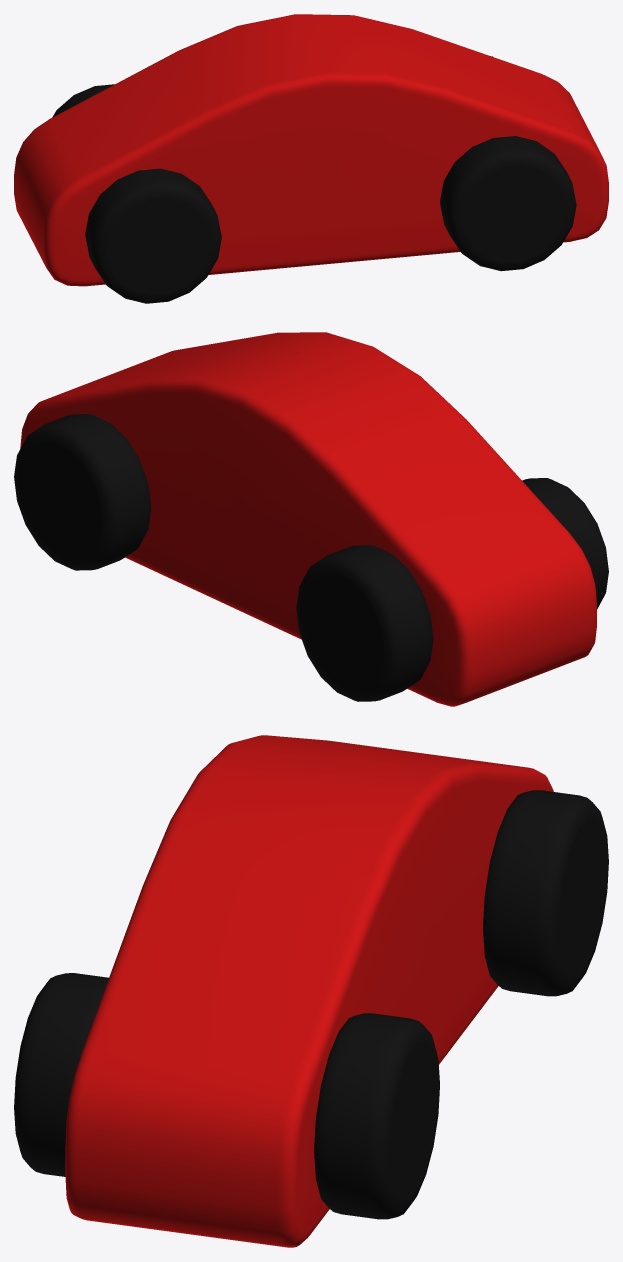
Rendered from Toy_Car_2.fbx.
The picture shows the model from 3 angles, top to bottom: view 1: azimuth 30°, elevation 25°; view 2: azimuth 150°, elevation 25°; view 3: azimuth 270°, elevation 25°; orthographic projection. The views are drawn at different scales.
Parts seen in each view (by area): view 1: Toy_Car_2; view 2: Toy_Car_2; view 3: Toy_Car_2.
Part boxes in pixels (box(x1,y1,x2,y2)): Toy_Car_2: box(14, 14, 608, 303); Toy_Car_2: box(14, 332, 608, 706); Toy_Car_2: box(14, 735, 608, 1247).
Size of the model in its own units: 2.03 by 0.7261 by 1.33.
